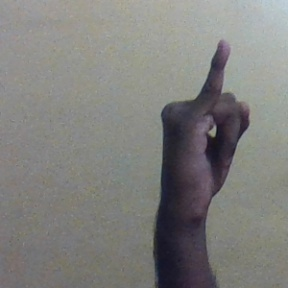I: (159, 37, 250, 200)
